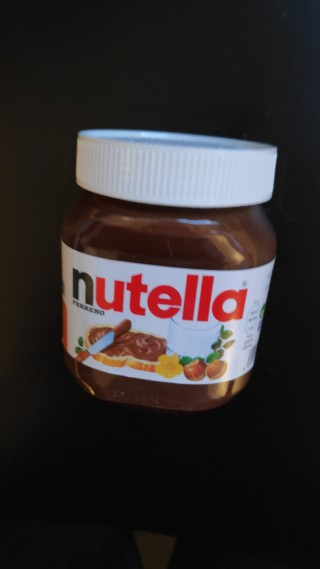nutella: (57, 124, 280, 419)
